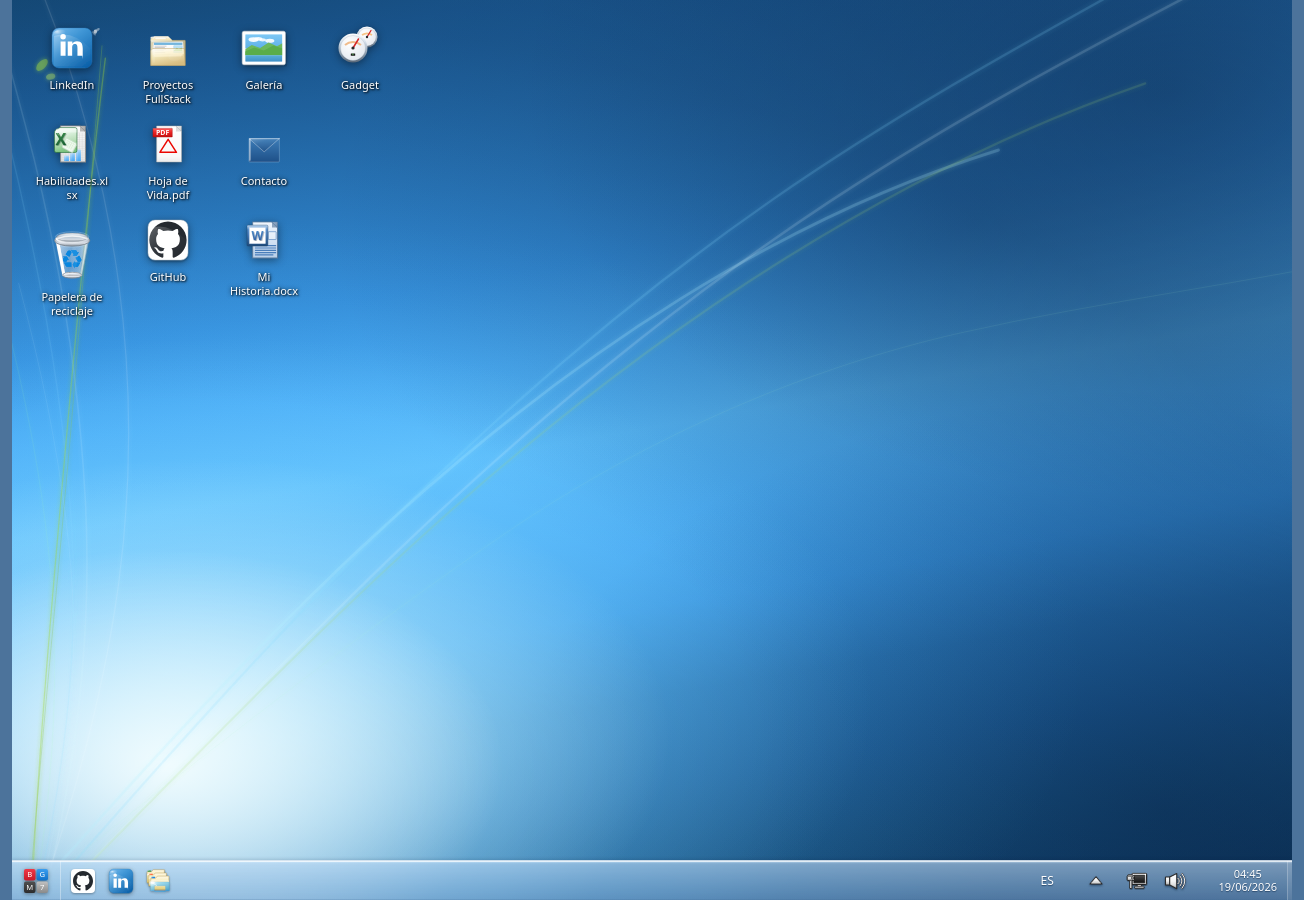
Scenario: DesktopComponent › should open file explorer at disco local from taskbar
This screenshot has width=1304, height=900.
Click the button with class "taskbar-app-icon--explorer": [159, 880] box [145,864,173,896]
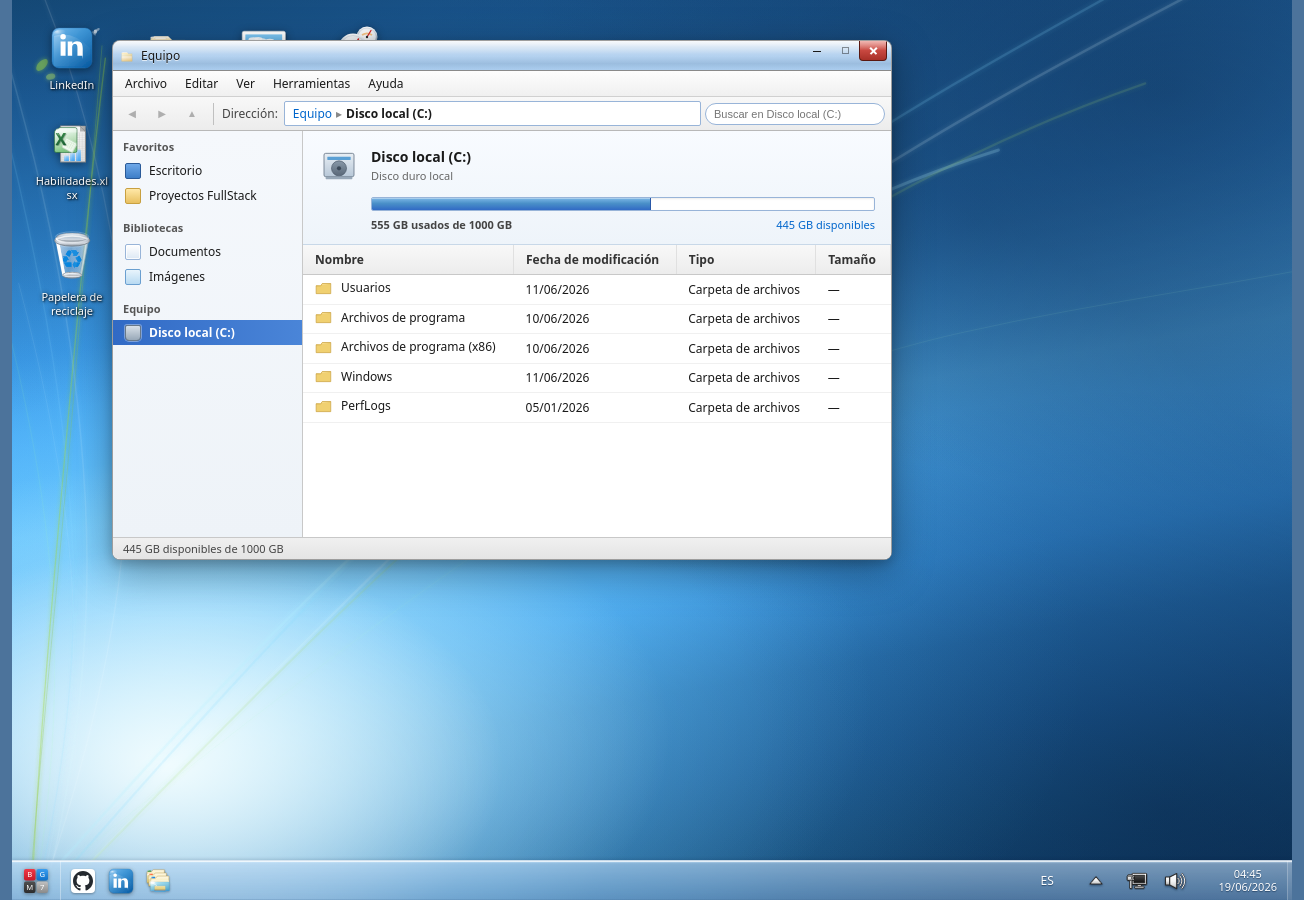
Check: the text "Disco local (C:)" is shown, box [346,105,432,122]
Check: the text "555 GB" is shown, box [371,217,512,232]
Check: the text "Usuarios" is shown, box [315,279,391,296]
